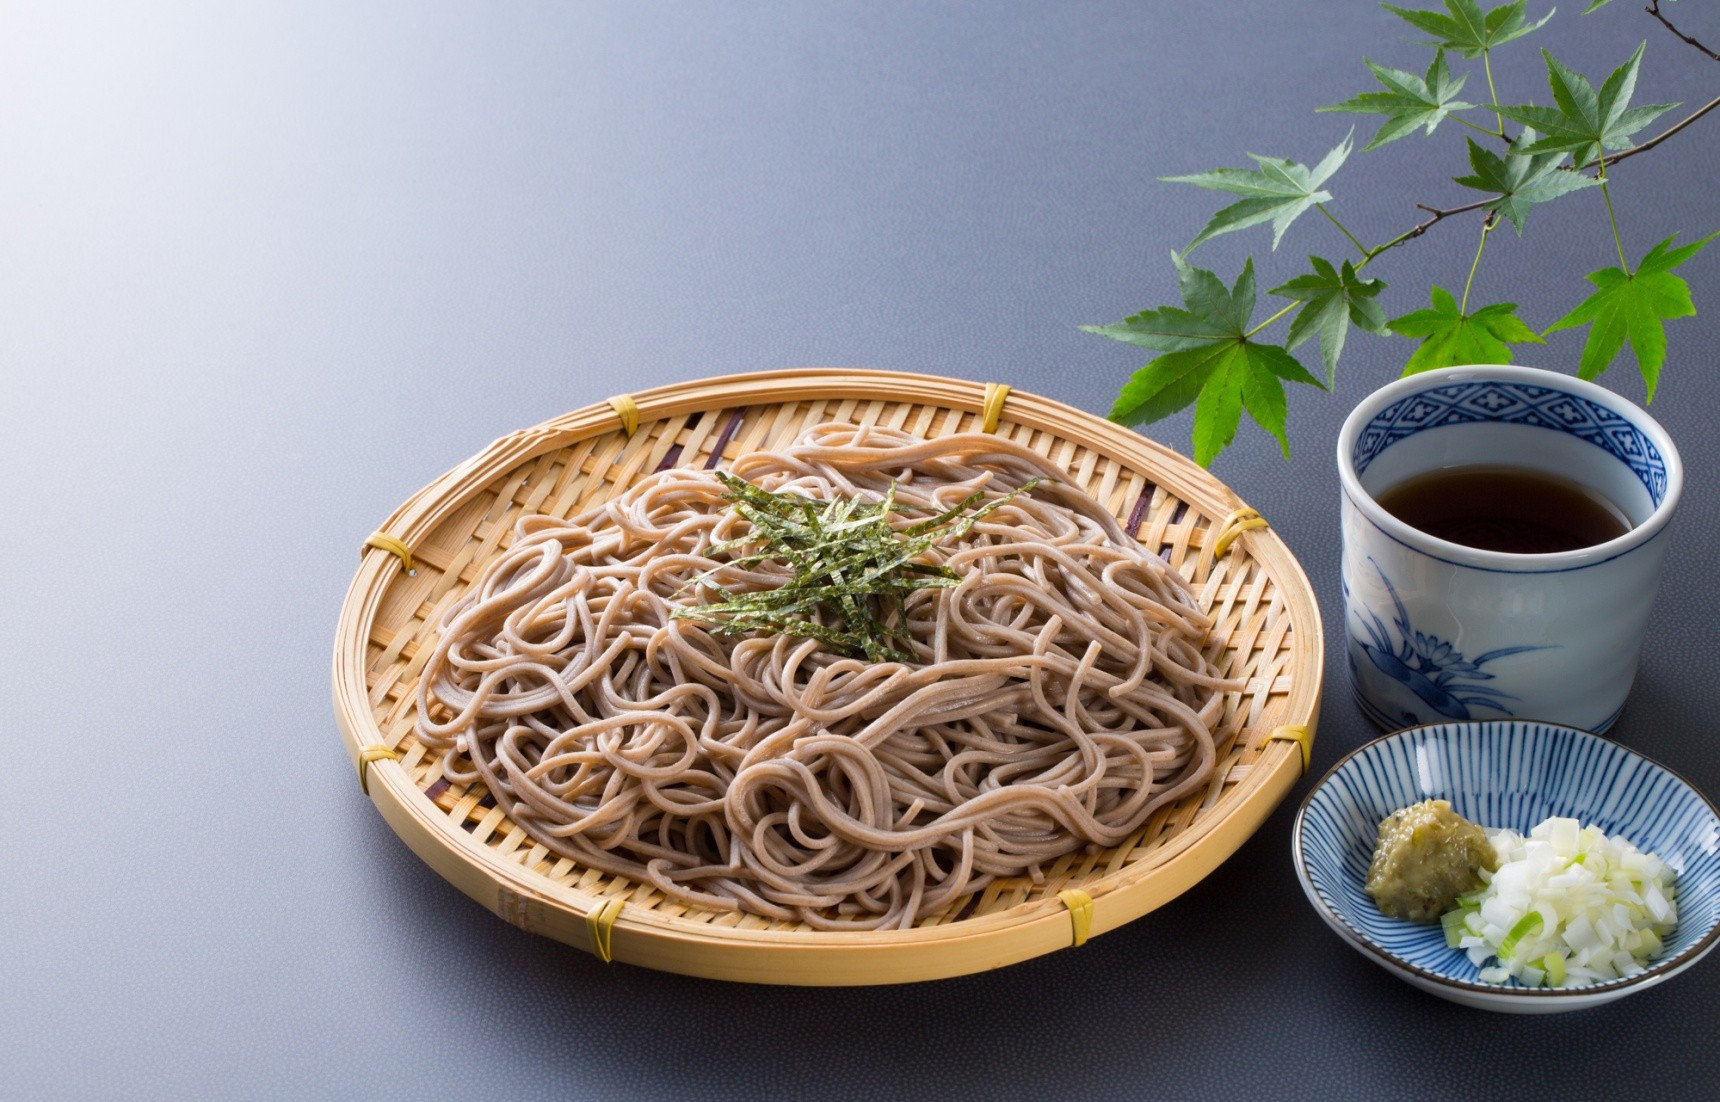Soba: (407, 414, 1251, 919)
